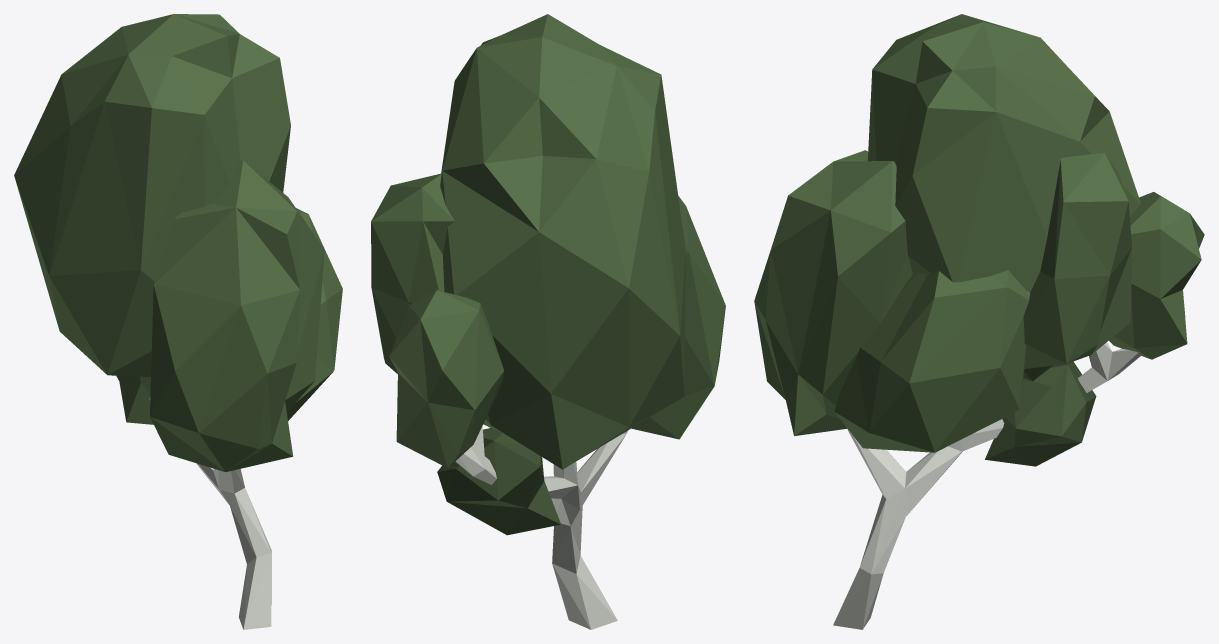
File: BirchTree_1.lod2.glb
3 views of the same model, side by side, from view 1: azimuth 30°, elevation 25°; view 2: azimuth 150°, elevation 25°; view 3: azimuth 270°, elevation 25° (orthographic). The views are drawn at different scales.
Visible parts, largest first — view 1: BirchTree_1; view 2: BirchTree_1; view 3: BirchTree_1.
Part boxes in pixels (x1=…): BirchTree_1: x1=14, y1=14, x2=342, y2=629; BirchTree_1: x1=371, y1=14, x2=725, y2=629; BirchTree_1: x1=754, y1=14, x2=1204, y2=629.
Bounding box in the file's own units: 1.7 × 3.59 × 2.48.
